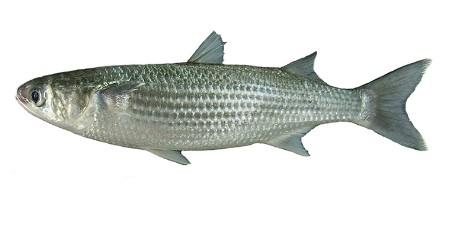Mullet: (15, 30, 432, 169)
